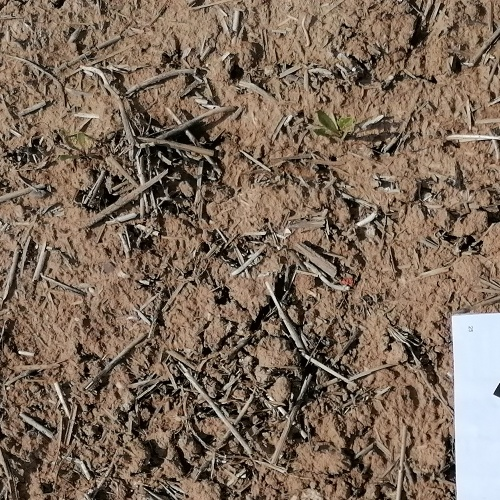beet: (314, 109, 354, 143)
